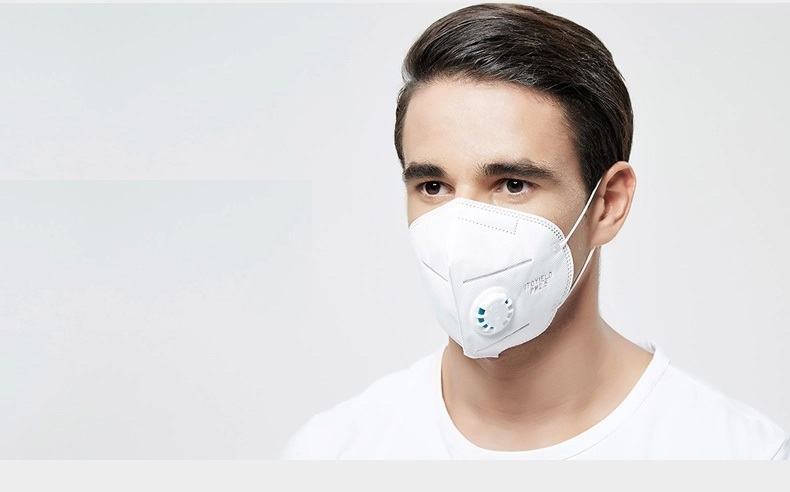face_mask: (403, 85, 586, 338)
